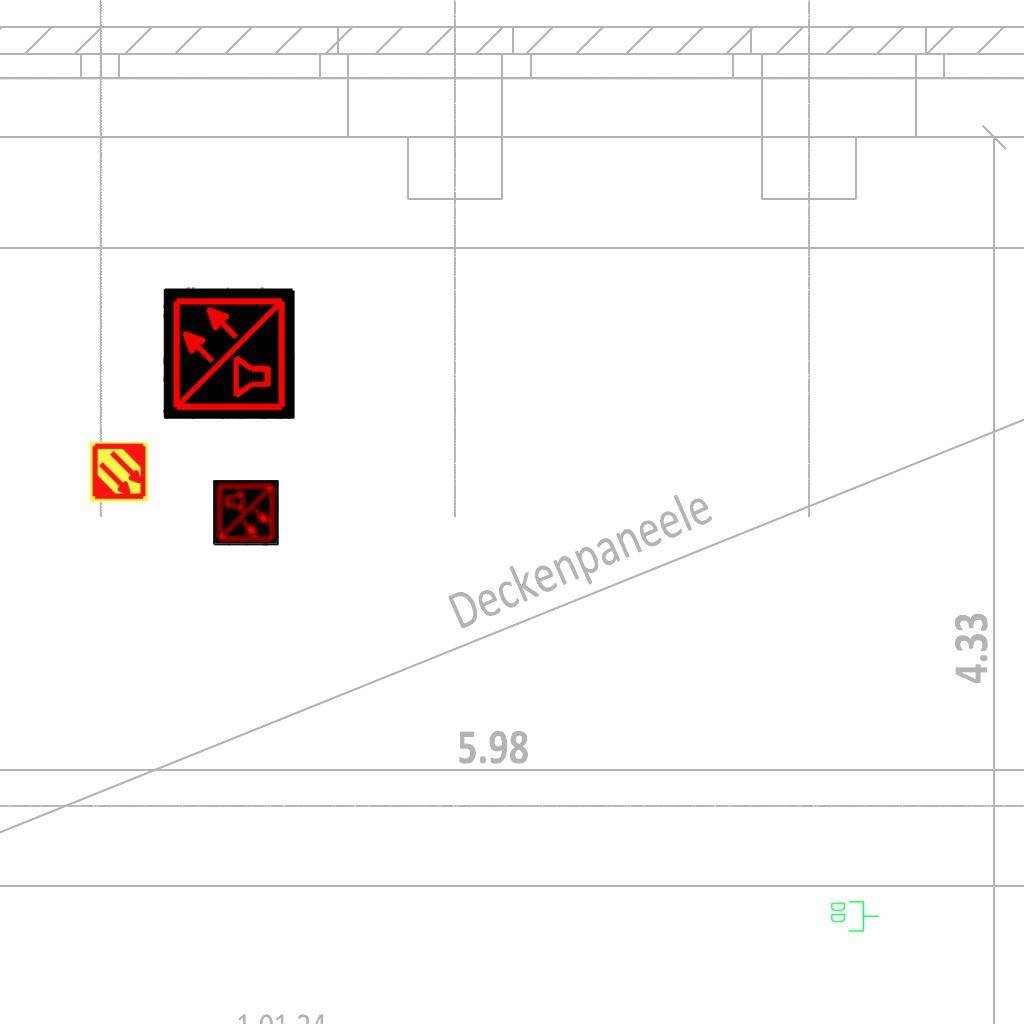ASR_Ansaugrauchmelder: (88, 441, 150, 503)
Datenanschluss_zweifach: (829, 899, 880, 933)
OKW_Multisensormelder_(Kombination_optischer_Rauch-Kahlenmonoxid_Waerme-Melder): (163, 287, 295, 419), (213, 480, 279, 546)
